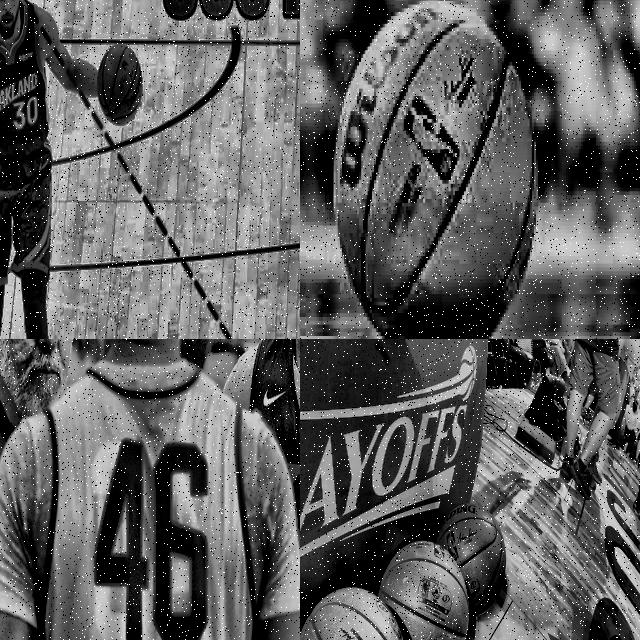Basketball: (336, 1, 538, 339), (379, 540, 470, 640), (437, 502, 507, 617), (300, 588, 404, 640), (98, 44, 143, 123)
